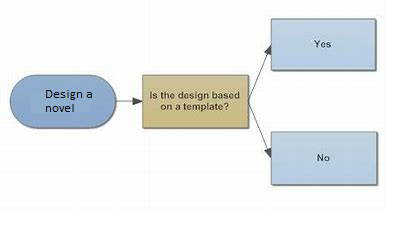arrow: (247, 43, 273, 104), (244, 99, 271, 157), (111, 95, 143, 106)
process: (268, 129, 379, 187), (140, 71, 251, 129), (268, 17, 378, 72)
terminator: (7, 73, 117, 130)
text: (146, 88, 241, 112), (43, 87, 93, 112), (312, 36, 331, 48), (313, 151, 329, 162)
